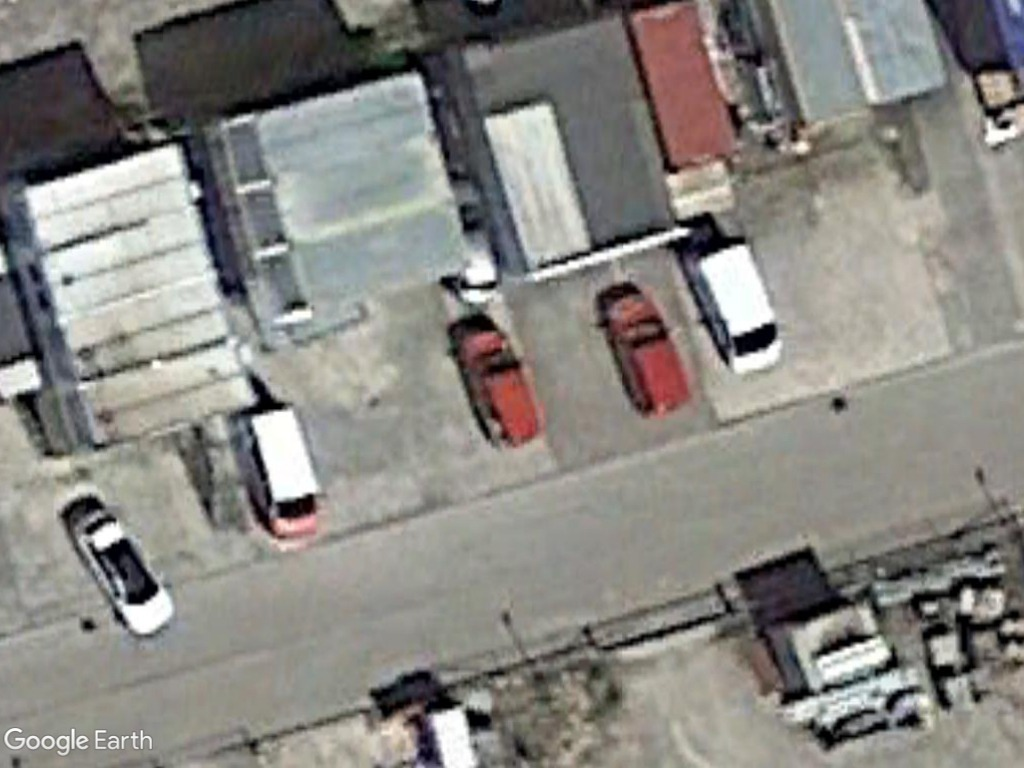van: (684, 241, 788, 378), (235, 406, 327, 542), (452, 321, 543, 458), (605, 287, 691, 418)
